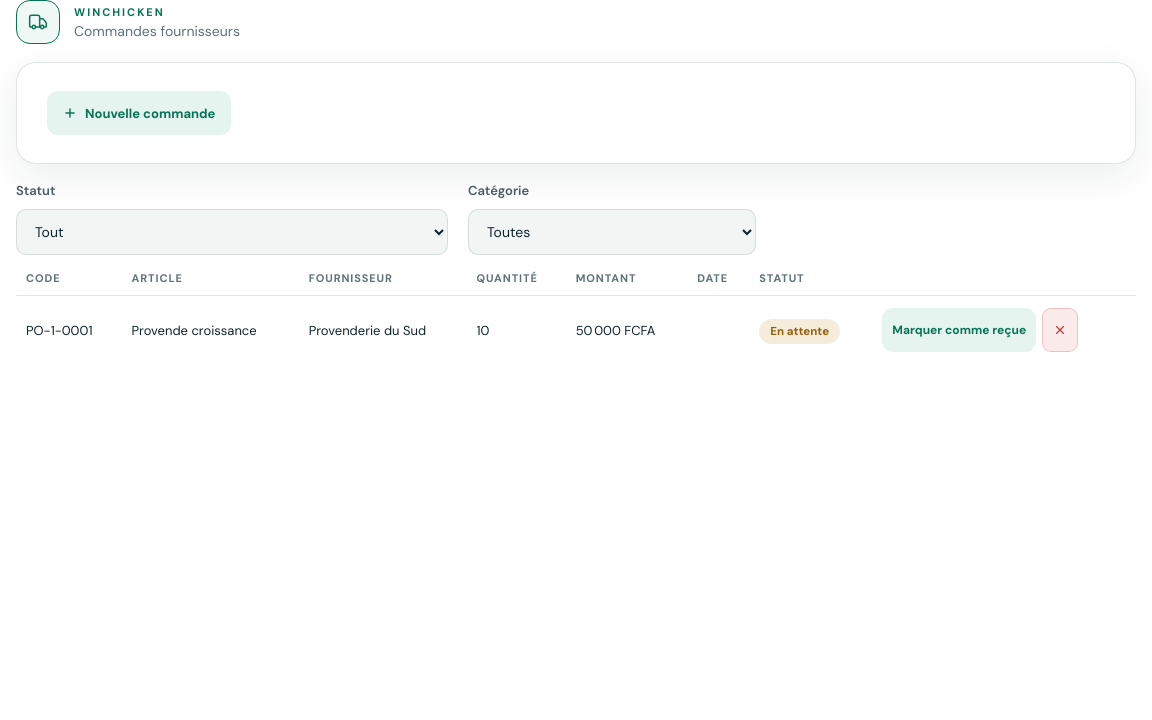
Scenario: PurchaseOrdersPage — a refused cancellation › says why, inside the dialog, and leaves the order listed
Step 1. Click the button named "Annuler la commande" → (1060, 330), box [1042,308,1078,352]
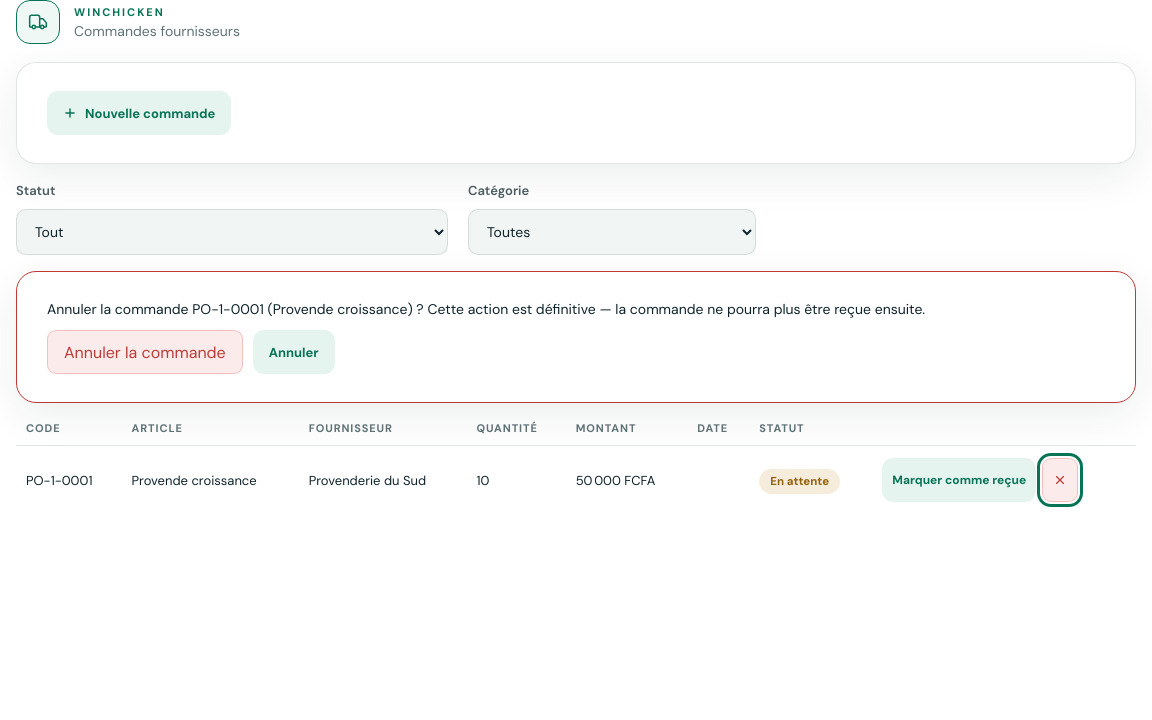
Step 2. Click the button "Annuler la commande" → (145, 352), box [47,330,243,374]
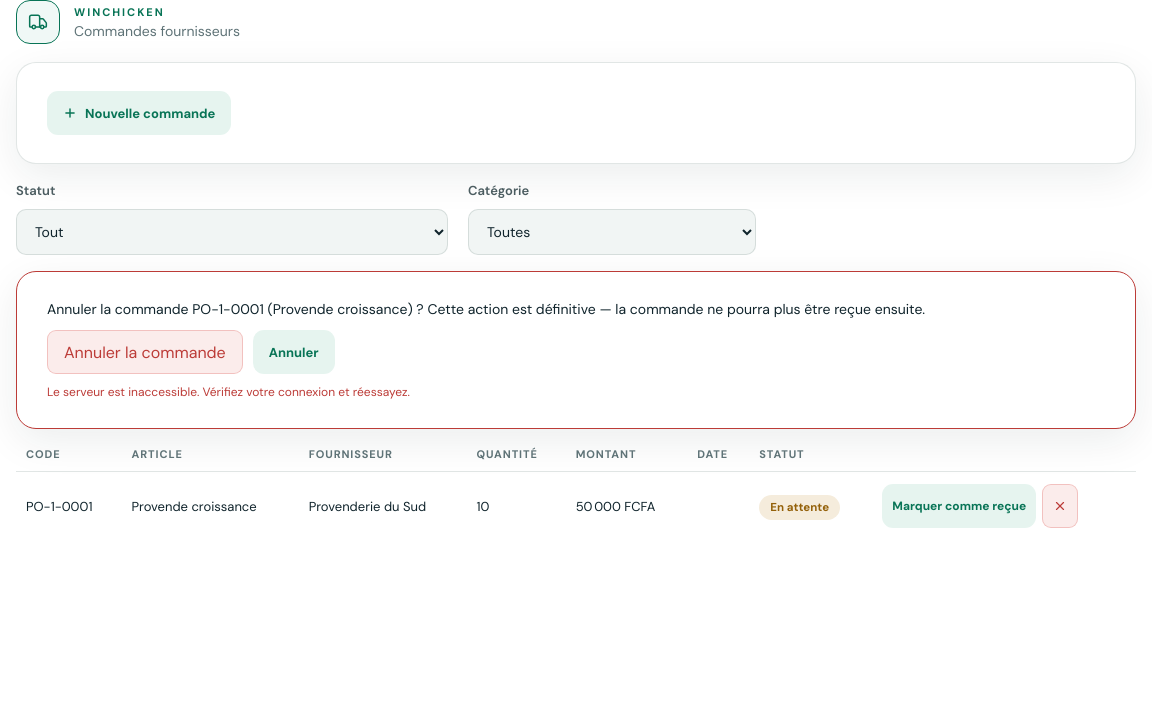
Expected: the text "PO-1-0001" is shown, [16,472,122,540]
Result: the message shows "Le serveur est inaccessible." at [47,384,410,400]
